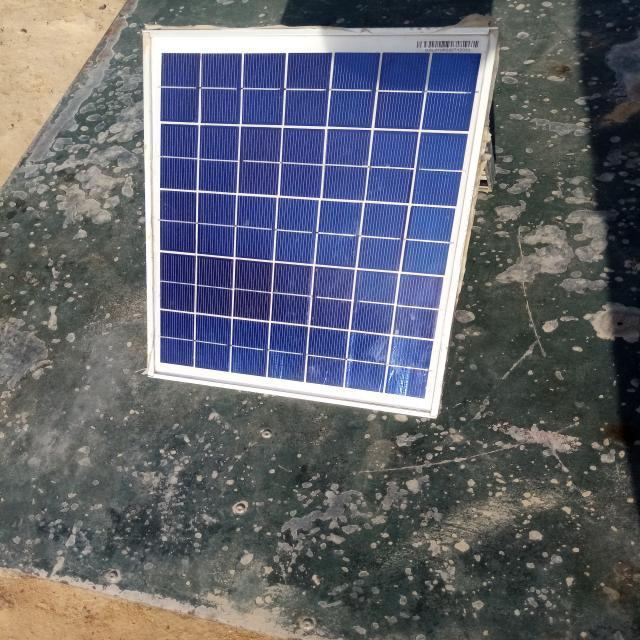no faulty: (147, 31, 495, 416)
